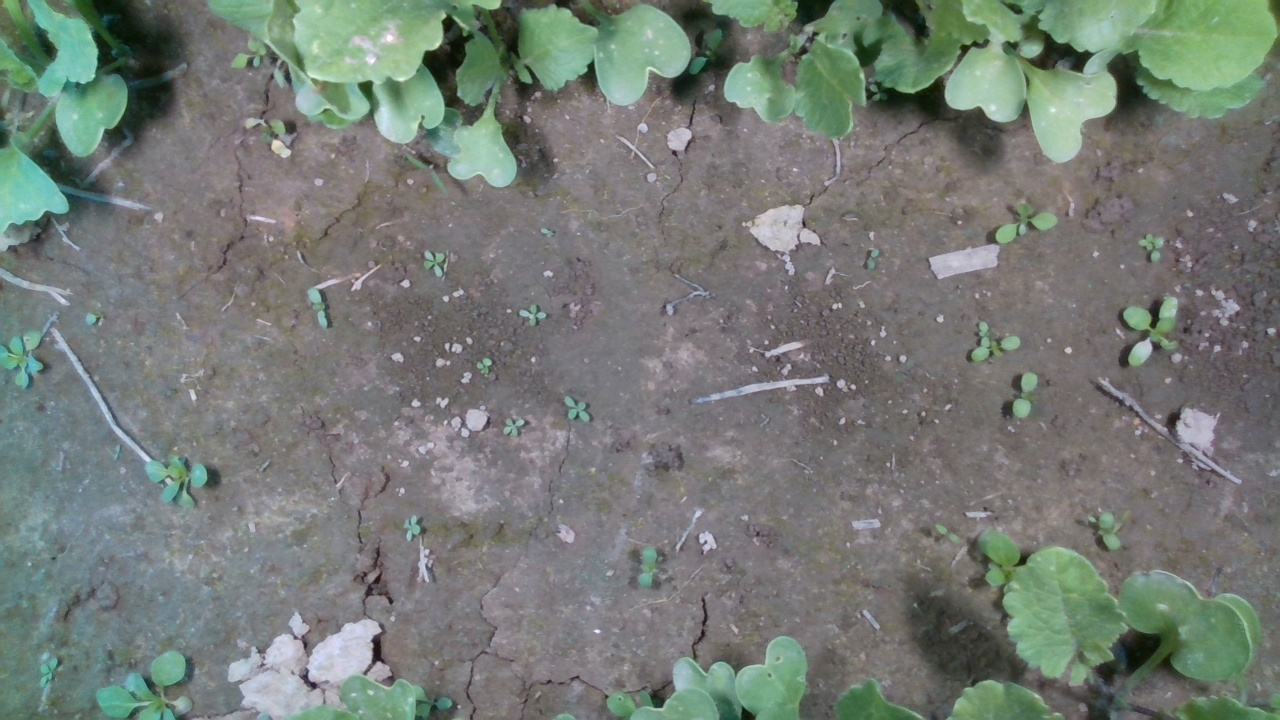weed: (993, 200, 1059, 244), (1089, 508, 1123, 552), (1011, 369, 1038, 421), (303, 287, 331, 331), (634, 545, 660, 591), (563, 395, 593, 423), (517, 301, 549, 327), (422, 250, 448, 278), (930, 522, 961, 545), (401, 512, 423, 543), (37, 658, 58, 688), (503, 416, 526, 437)
